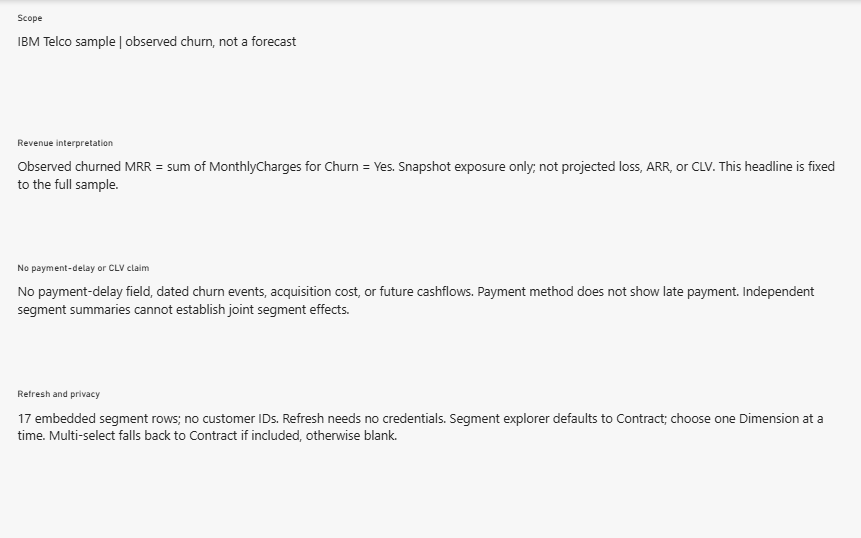

Layout of this report page (visuals, bound fields, positions):
{"tool":"powerbi","page":{"name":"Definitions | Read before interpreting","canvas":[1440,900],"ordinal":2},"visuals":[{"type":"textbox","title":"Scope","box":[30,20,1380,180],"z":20},{"type":"textbox","title":"Revenue interpretation","box":[30,230,1380,180],"z":21},{"type":"textbox","title":"No payment-delay or CLV claim","box":[30,440,1380,180],"z":22},{"type":"textbox","title":"Refresh and privacy","box":[30,650,1380,180],"z":23}]}

Visuals, with their boxes in screenshot pixels (x1, y1, x2, y2), scaled from the page's 1440x900 canvas onto the 861x538 screenshot:
"Scope" textbox: rect(18, 12, 843, 120)
"Revenue interpretation" textbox: rect(18, 137, 843, 245)
"No payment-delay or CLV claim" textbox: rect(18, 263, 843, 371)
"Refresh and privacy" textbox: rect(18, 389, 843, 496)
